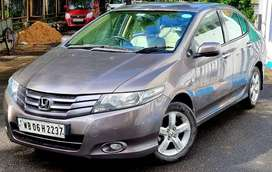WB06H2237: (17, 116, 64, 139)
